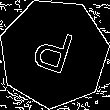P_S: (29, 24, 79, 83)
